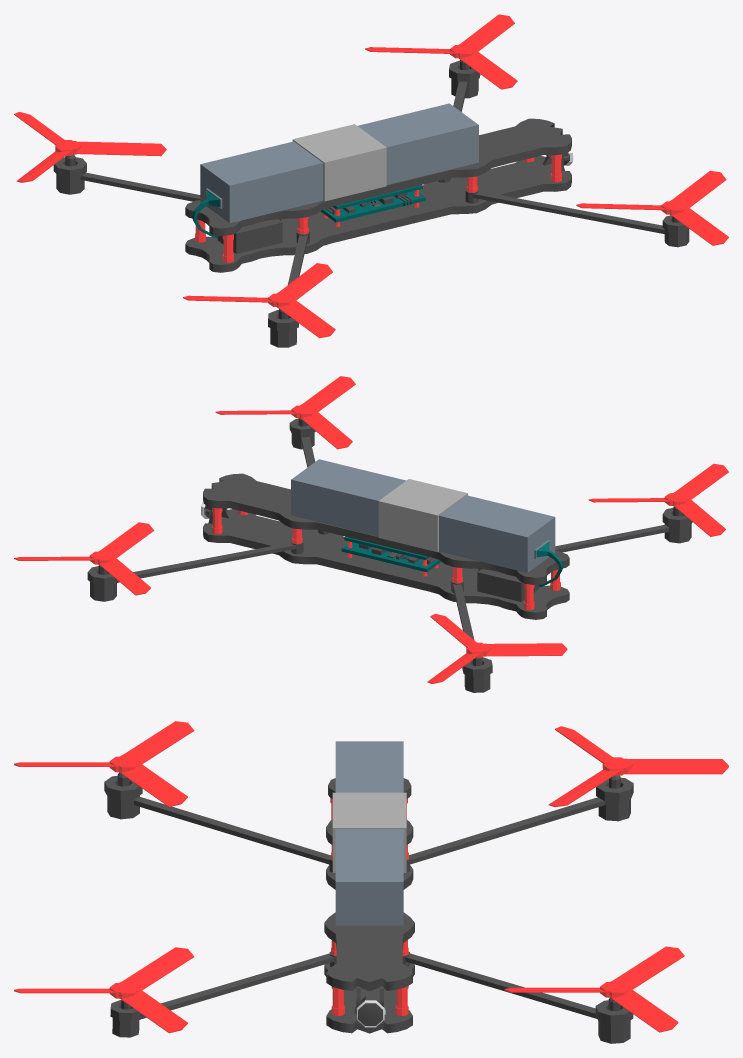
The picture shows the model from 3 angles, top to bottom: view 1: azimuth 30°, elevation 25°; view 2: azimuth 150°, elevation 25°; view 3: azimuth 270°, elevation 25°; orthographic projection. The views are drawn at different scales.
Parts seen in each view (by area): view 1: AKB, carcas, pasted__pasted__pCube1, vint1.002, винт:pasted__pDisc1.001, vint1.001, винт:pasted__pDisc1.002, pCylinder1, pCube5, pCube6, pasted__pCylinder1.003, pCylinder1.002 (+3 smaller); view 2: AKB, carcas, pasted__pasted__pCube1, винт:pasted__pDisc1.002, vint1.001, vint1.002, винт:pasted__pDisc1.001, pCylinder1.001, pCube5, pCube6, pCylinder1.003, pasted__pCylinder1.003 (+4 smaller); view 3: AKB, pasted__pasted__pCube1, vint1.001, винт:pasted__pDisc1.001, винт:pasted__pDisc1.002, vint1.002, carcas, pCylinder1.003, pCylinder1.002, pCylinder1.001, pCylinder1, pasted__pCylinder1.003 (+4 smaller).
Boxes of the visible parts, x1=… form: AKB: x1=200, y1=103, x2=478, y2=223; carcas: x1=185, y1=156, x2=571, y2=272; pasted__pasted__pCube1: x1=185, y1=118, x2=571, y2=236; vint1.002: x1=183, y1=263, x2=335, y2=338; винт:pasted__pDisc1.001: x1=365, y1=14, x2=517, y2=89; vint1.001: x1=576, y1=170, x2=728, y2=245; винт:pasted__pDisc1.002: x1=14, y1=112, x2=166, y2=182; pCylinder1: x1=465, y1=189, x2=664, y2=233; pCube5: x1=217, y1=219, x2=282, y2=253; pCube6: x1=320, y1=191, x2=425, y2=222; pasted__pCylinder1.003: x1=53, y1=154, x2=86, y2=194; pCylinder1.002: x1=80, y1=172, x2=281, y2=220; AKB: x1=291, y1=459, x2=555, y2=572; carcas: x1=203, y1=509, x2=569, y2=619; pasted__pasted__pCube1: x1=203, y1=473, x2=569, y2=585; винт:pasted__pDisc1.002: x1=427, y1=614, x2=567, y2=683; vint1.001: x1=215, y1=376, x2=355, y2=449; vint1.002: x1=588, y1=463, x2=728, y2=536; винт:pasted__pDisc1.001: x1=14, y1=522, x2=154, y2=595; pCylinder1.001: x1=117, y1=541, x2=303, y2=582; pCube5: x1=477, y1=569, x2=538, y2=601; pCube6: x1=341, y1=542, x2=441, y2=572; pCylinder1.003: x1=478, y1=524, x2=669, y2=570; pasted__pCylinder1.003: x1=462, y1=657, x2=492, y2=692; AKB: x1=332, y1=741, x2=406, y2=925; pasted__pasted__pCube1: x1=324, y1=778, x2=414, y2=991; vint1.001: x1=14, y1=947, x2=194, y2=1033; винт:pasted__pDisc1.001: x1=504, y1=946, x2=684, y2=1032; винт:pasted__pDisc1.002: x1=548, y1=726, x2=728, y2=807; vint1.002: x1=14, y1=721, x2=194, y2=807; carcas: x1=324, y1=865, x2=414, y2=1033; pCylinder1.003: x1=134, y1=796, x2=335, y2=873; pCylinder1.002: x1=406, y1=797, x2=605, y2=872; pCylinder1.001: x1=402, y1=952, x2=597, y2=1018; pCylinder1: x1=139, y1=951, x2=336, y2=1019; pasted__pCylinder1.003: x1=596, y1=775, x2=633, y2=821.
Bounding box in the file's own units: 22.64 × 3.4 × 22.62.
